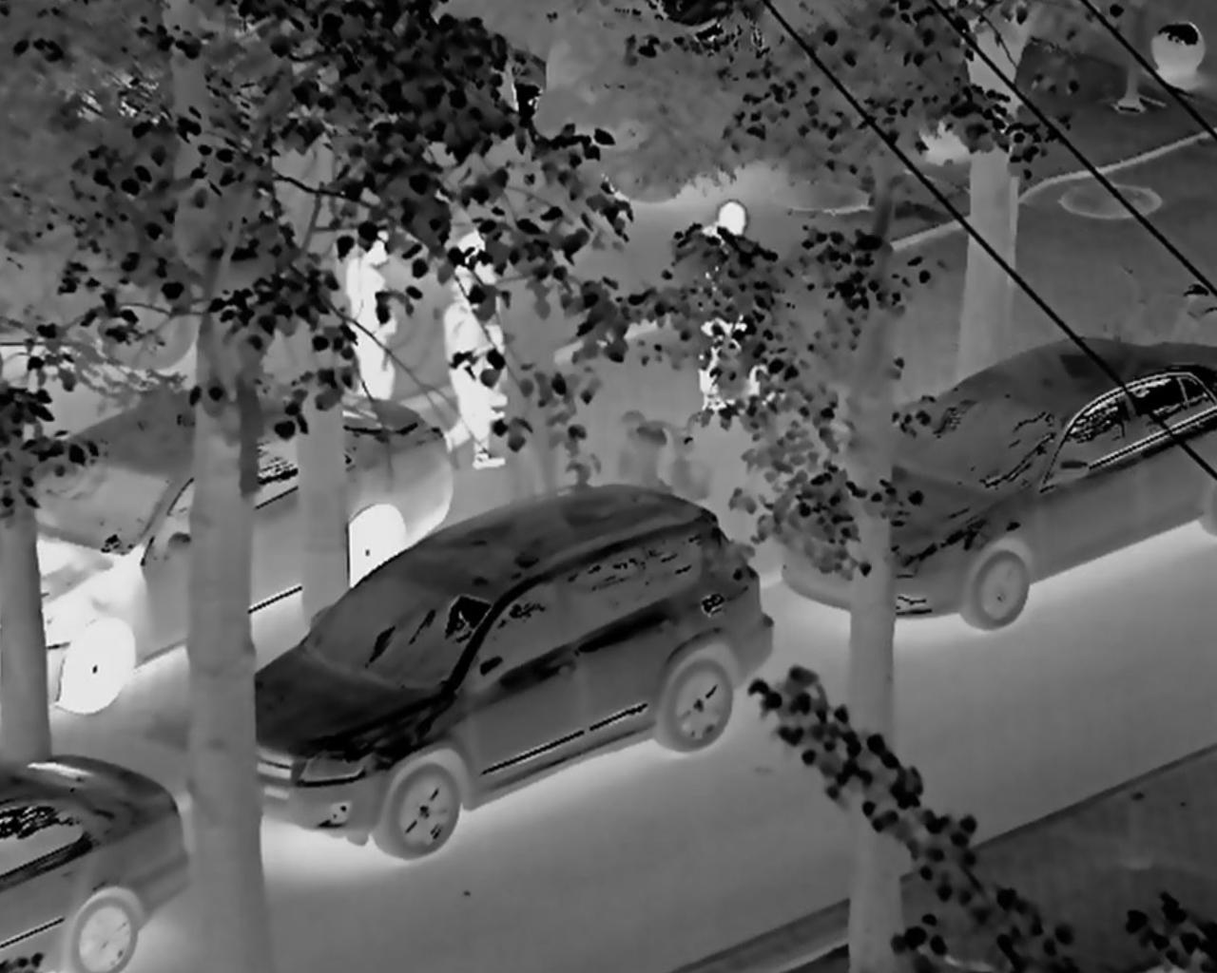person: (322, 214, 413, 421), (681, 197, 761, 406), (438, 275, 502, 471)
